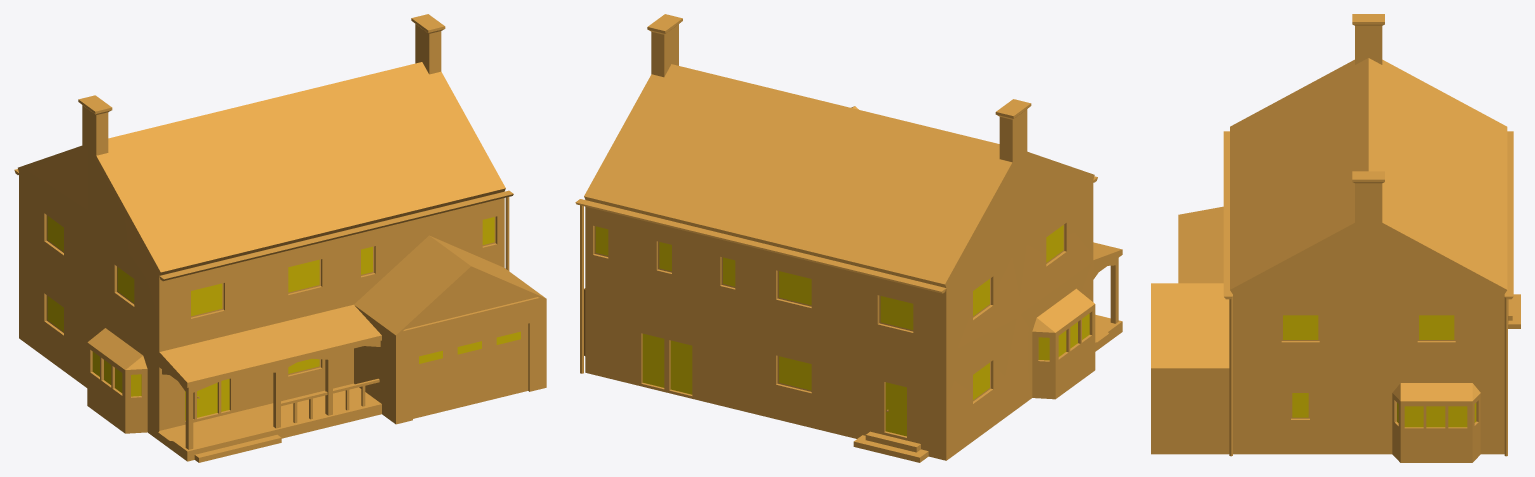
The model's file is Building_30.fbx.
3 renders of one model, left to right at view 1: azimuth 30°, elevation 25°; view 2: azimuth 150°, elevation 25°; view 3: azimuth 270°, elevation 25°, orthographic. The views are drawn at different scales.
Visible parts, largest first — view 1: building-house-family-large; view 2: building-house-family-large; view 3: building-house-family-large.
Boxes of the visible parts, left/top/right/bottom form: building-house-family-large: left=14, top=14, right=546, bottom=462; building-house-family-large: left=575, top=14, right=1122, bottom=462; building-house-family-large: left=1151, top=14, right=1520, bottom=462.
Size of the model in its own units: 5.89 by 4.21 by 5.11.
